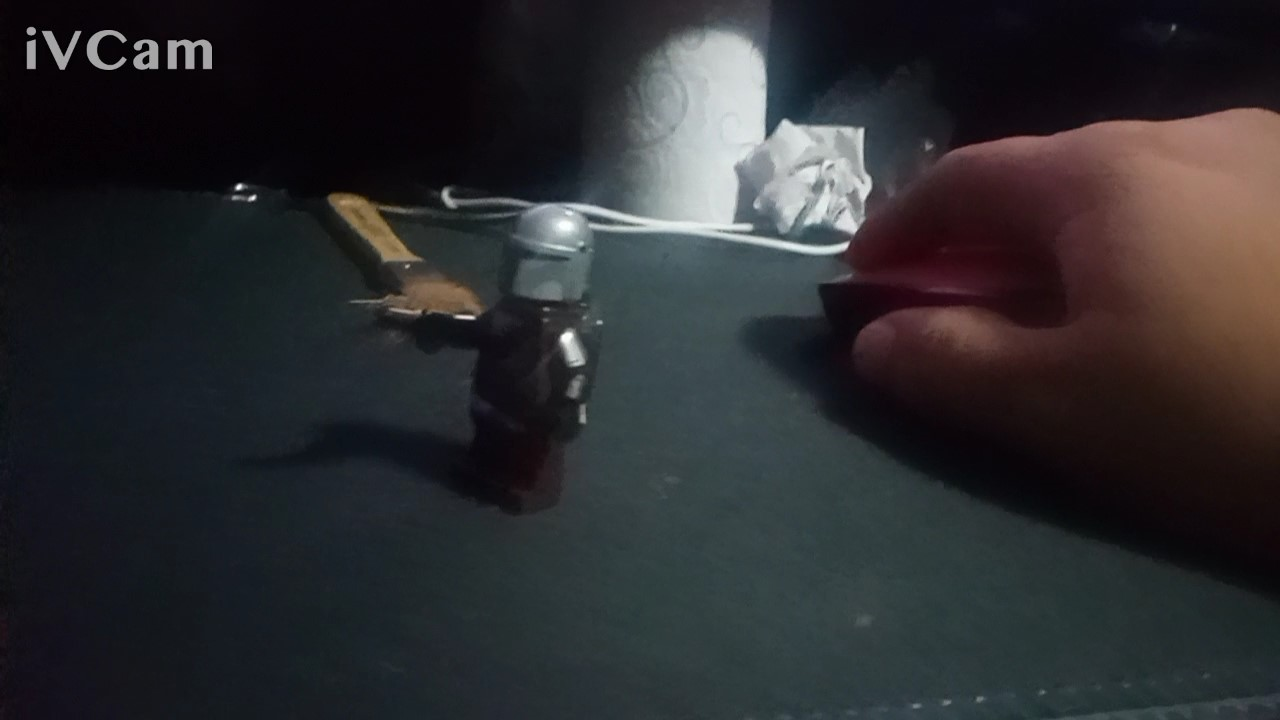mandalorian: (354, 179, 640, 525)
